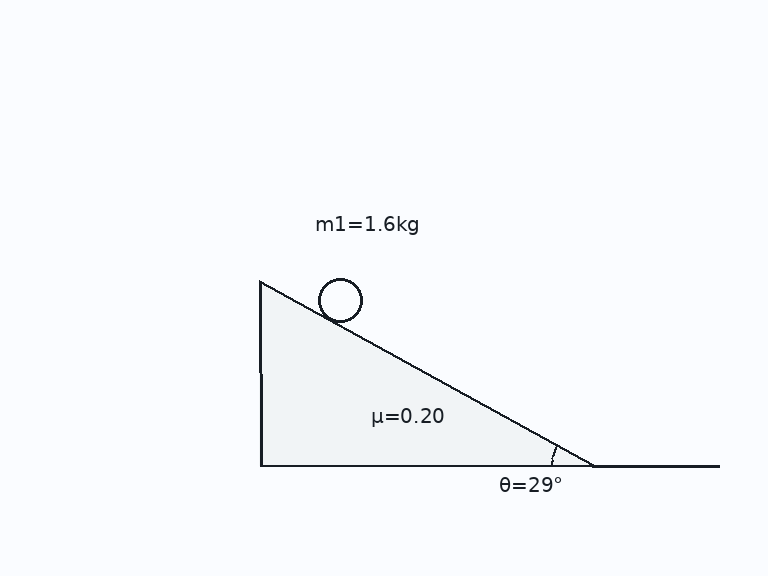ball: (316, 276, 364, 324)
ramp: (258, 279, 594, 467)
